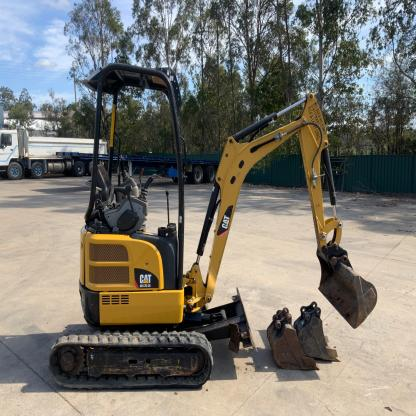dump_truck: (1, 119, 99, 187)
excavator: (40, 39, 392, 386)
